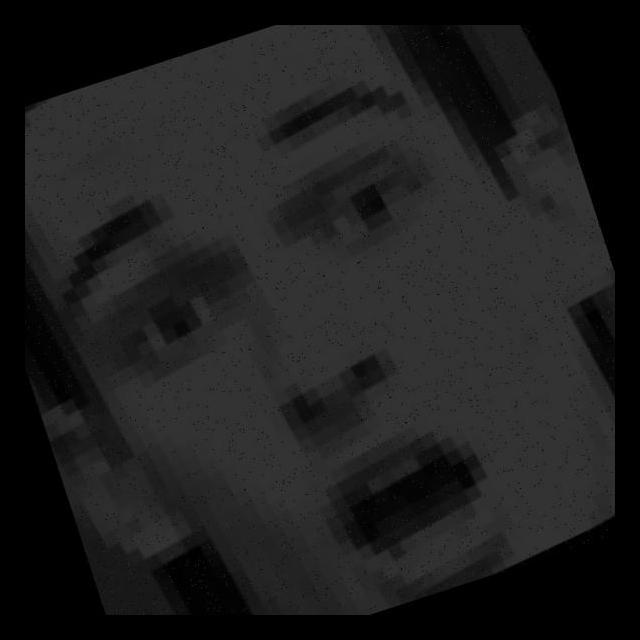Surprised: (66, 99, 544, 605)
